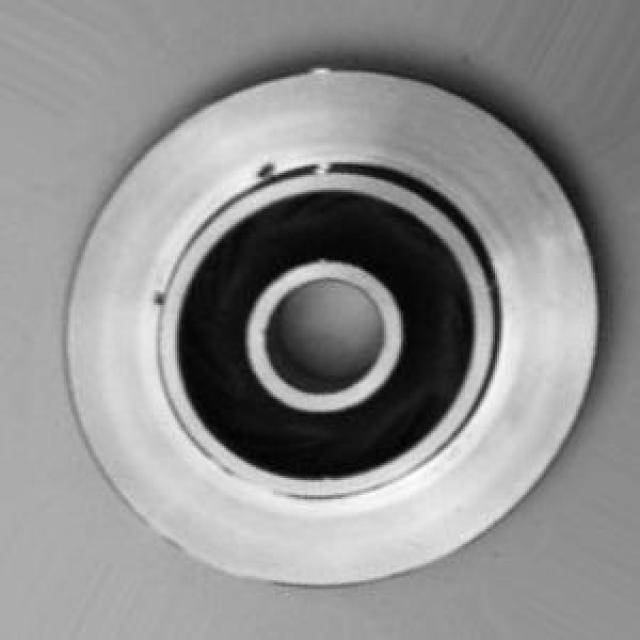Defect: (138, 282, 179, 323), (246, 152, 288, 184)
